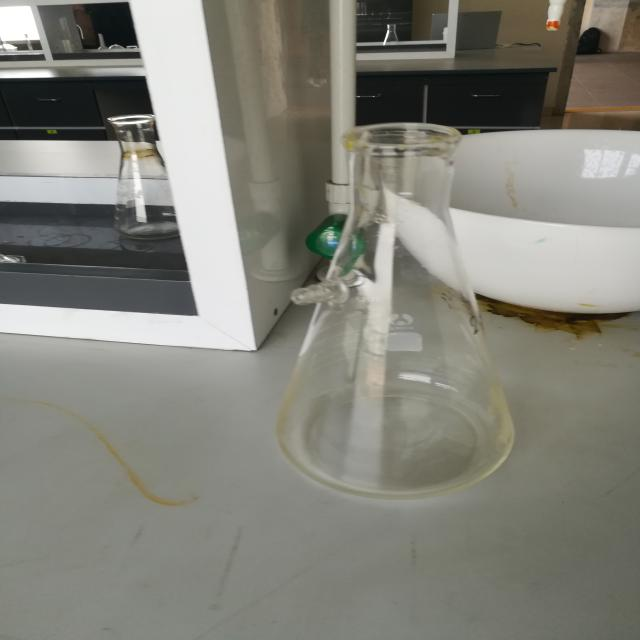Conical_Flask: (258, 47, 542, 518)
